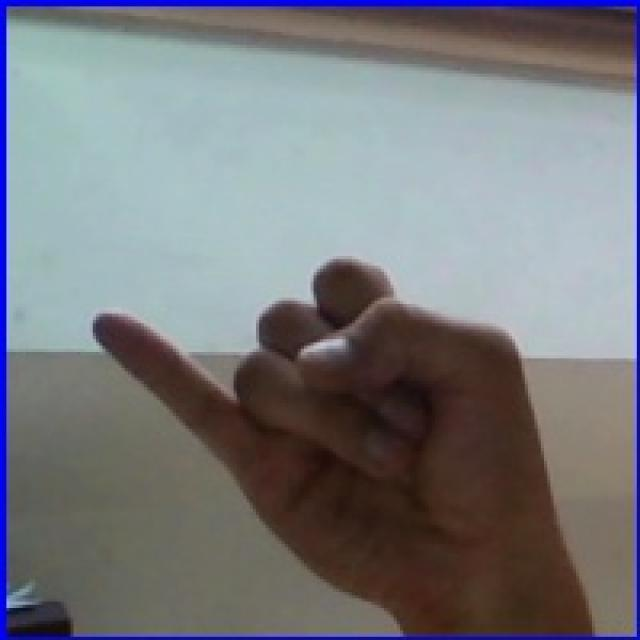J: (58, 215, 578, 607)
